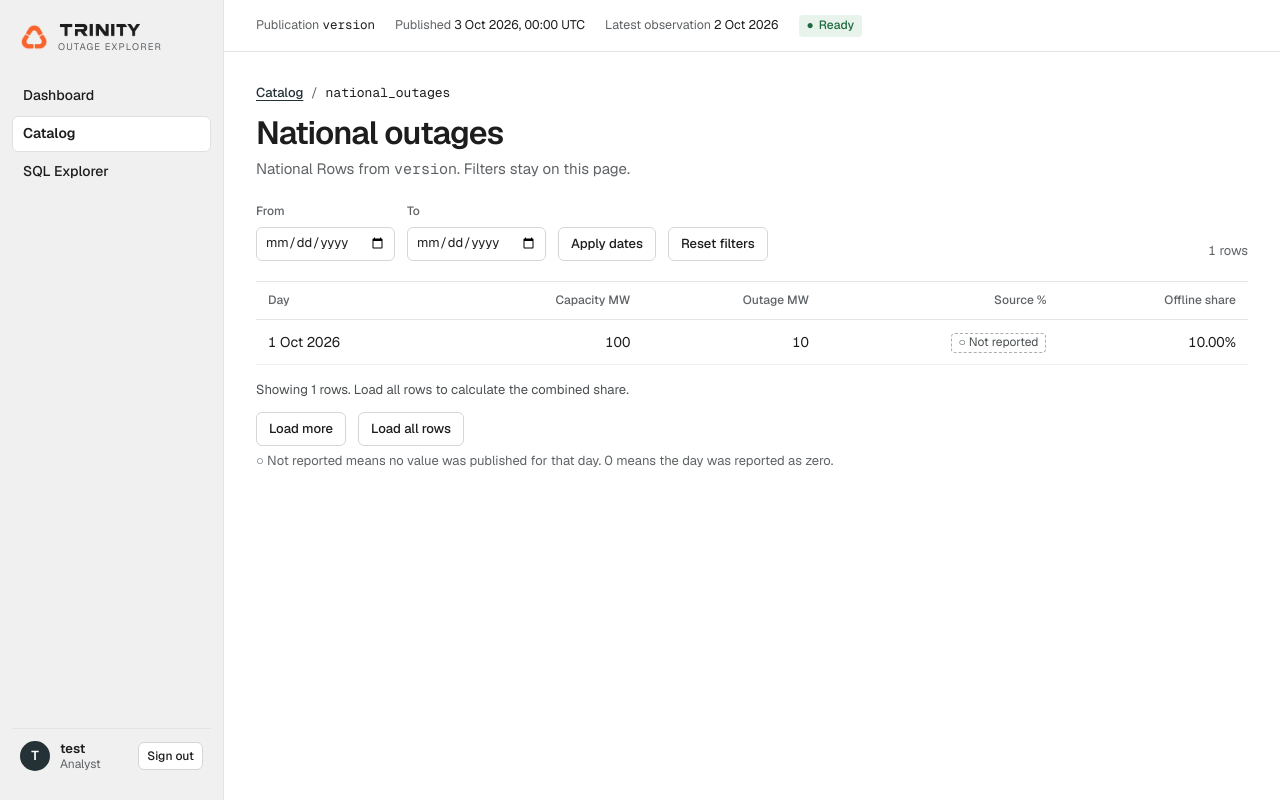
Scenario: publication change drops old rows before restarting the first page
Step 1. Click the button "Load more" → (301, 429), box left=256, top=412, right=346, bottom=446
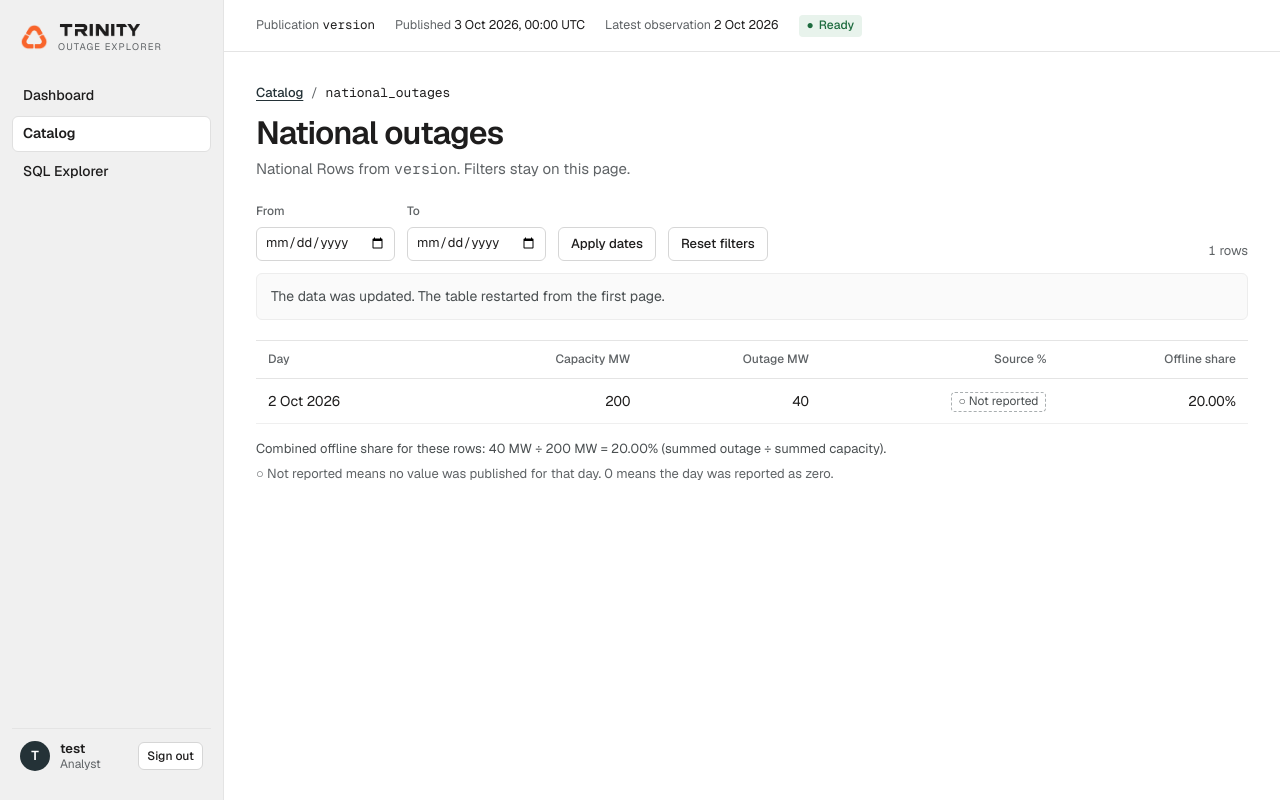
Now the text "The data was updated. The table restarted from the first page." is shown, box left=271, top=286, right=665, bottom=307
Now the text "Combined offline share for these rows: 40 MW ÷ 200 MW = 20.00% (summed outage ÷ summed capacity)." is shown, box left=256, top=440, right=886, bottom=457
Now the text "1 Oct 2026" is gone
